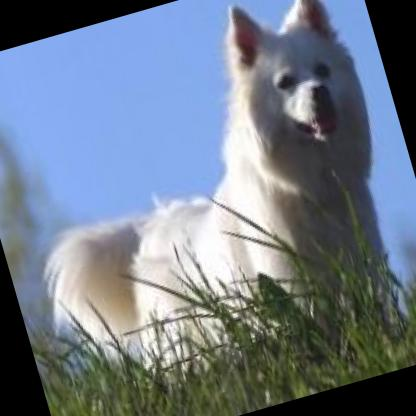Eskimo_dog: (0, 0, 416, 412)
